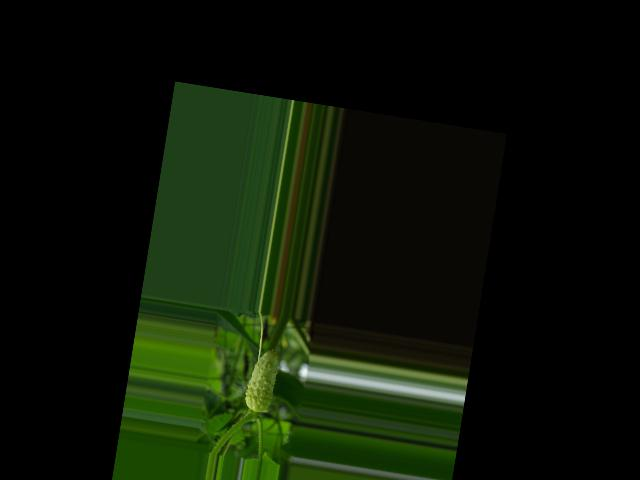cucumber: (242, 345, 280, 414)
